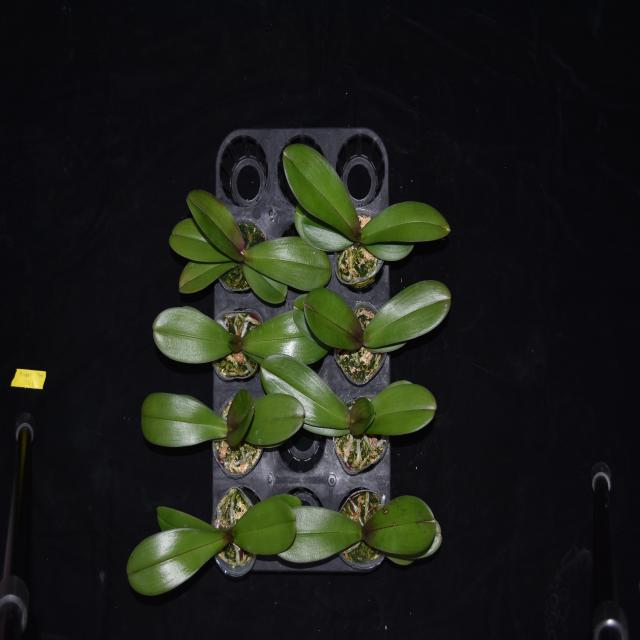leaf: (281, 137, 362, 244), (260, 355, 349, 438), (124, 525, 233, 591), (364, 280, 452, 354), (153, 303, 243, 367), (364, 495, 444, 566), (244, 233, 334, 291), (277, 506, 363, 566), (245, 311, 332, 368), (142, 391, 226, 448), (362, 198, 460, 246), (183, 188, 247, 261), (304, 286, 364, 352), (377, 378, 438, 438), (235, 501, 301, 556), (167, 216, 240, 264), (246, 393, 304, 449), (174, 254, 244, 293), (291, 205, 351, 246), (242, 258, 288, 304), (155, 501, 213, 534), (225, 388, 253, 448), (348, 394, 376, 436), (364, 241, 412, 262), (290, 297, 311, 334), (226, 334, 244, 352)
